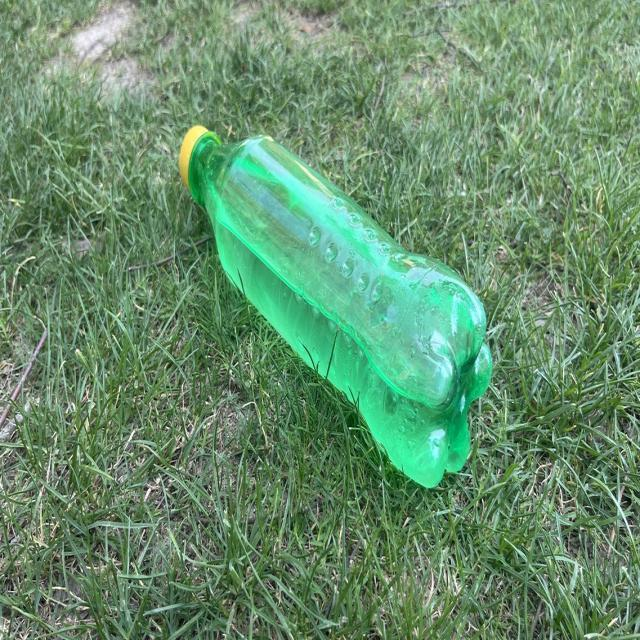medium: (179, 127, 491, 486)
